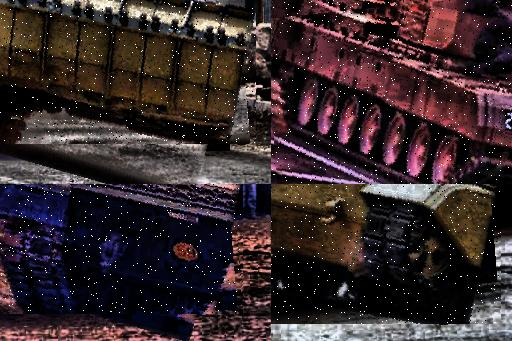tanks: (272, 2, 512, 185), (1, 1, 255, 144), (272, 185, 496, 325), (1, 185, 240, 314)
